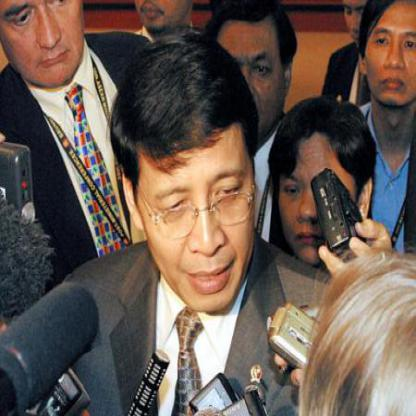face: (139, 64, 256, 317), (275, 106, 360, 266), (211, 1, 288, 142), (3, 1, 84, 94), (339, 1, 373, 53)
